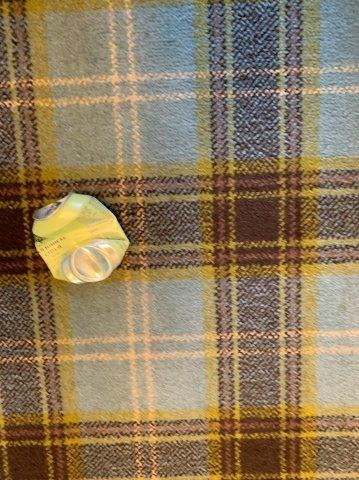kaleng: (32, 193, 130, 283)
